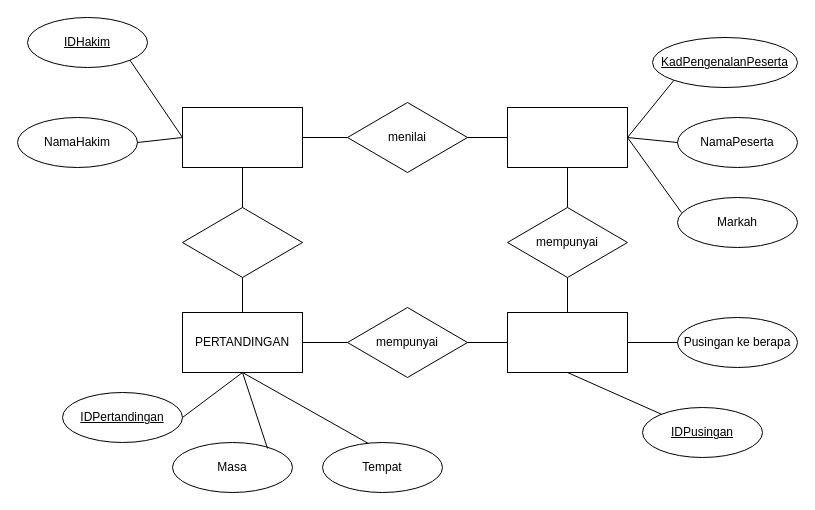
Image size: 815x510. Some labels were removed from this diagram. The shapes that lost their labels are listed below. From the top down, each one's box as (x1, y1, x2, y2) in pixels, then its label:
(182, 106, 302, 168): HAKIM
(506, 106, 628, 168): PESERTA
(182, 206, 302, 278): mencipta
(506, 312, 628, 372): PUSINGAN
